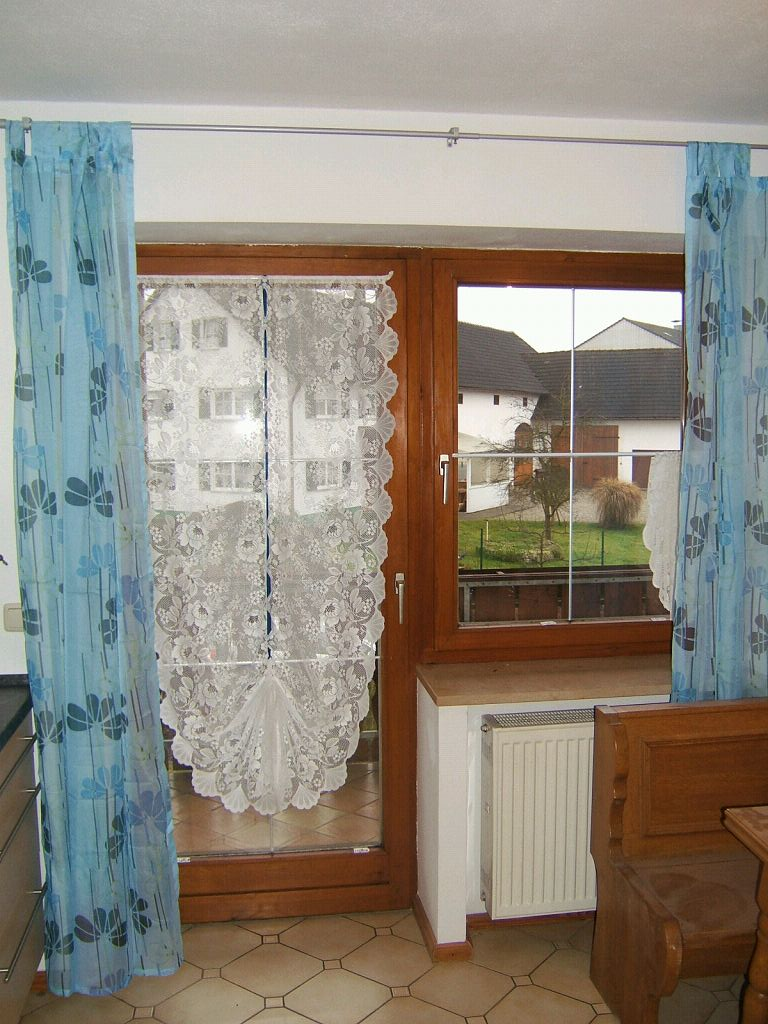windows: (442, 252, 673, 635)
